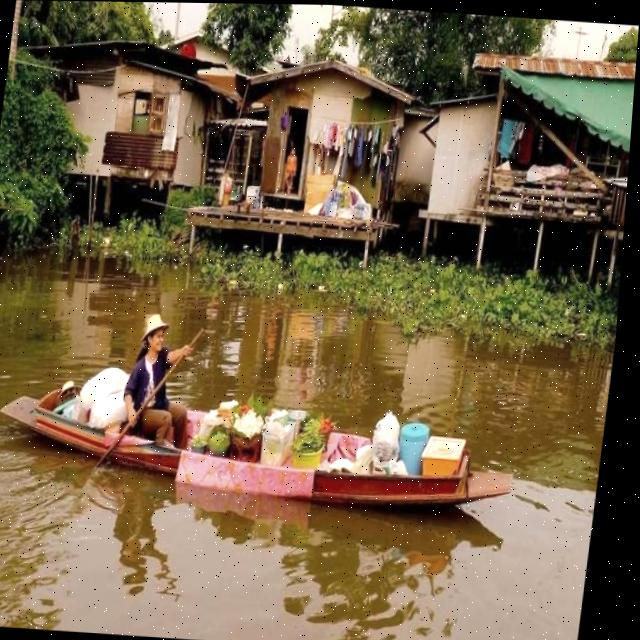civilian: (113, 309, 194, 451), (273, 141, 311, 201)
